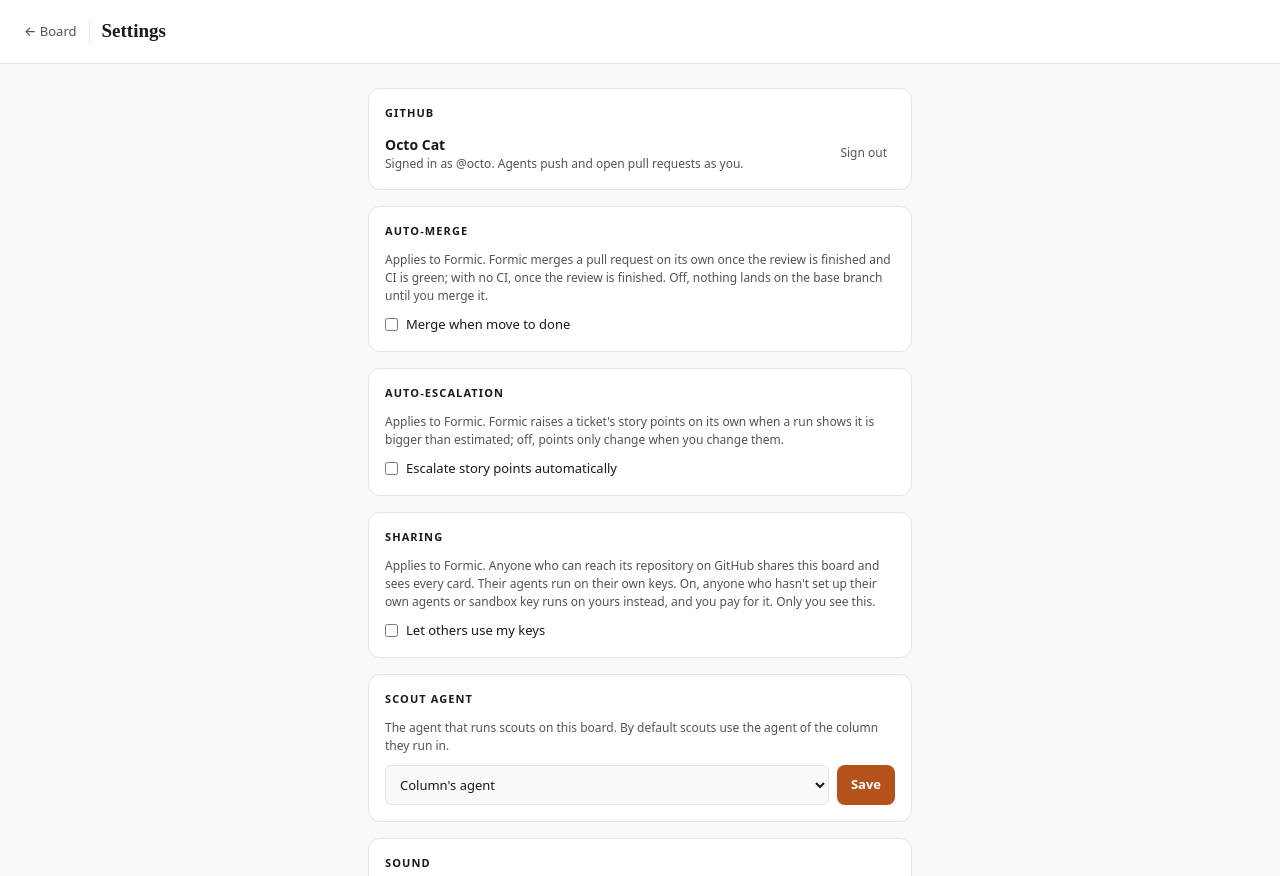
Auto-escalation › stays as it was and says so when the save is refused
The width and height of the screenshot is (1280, 876).
Click the checkbox labelled "Escalate story points automatically" at (392, 469), box [385,462,398,475]
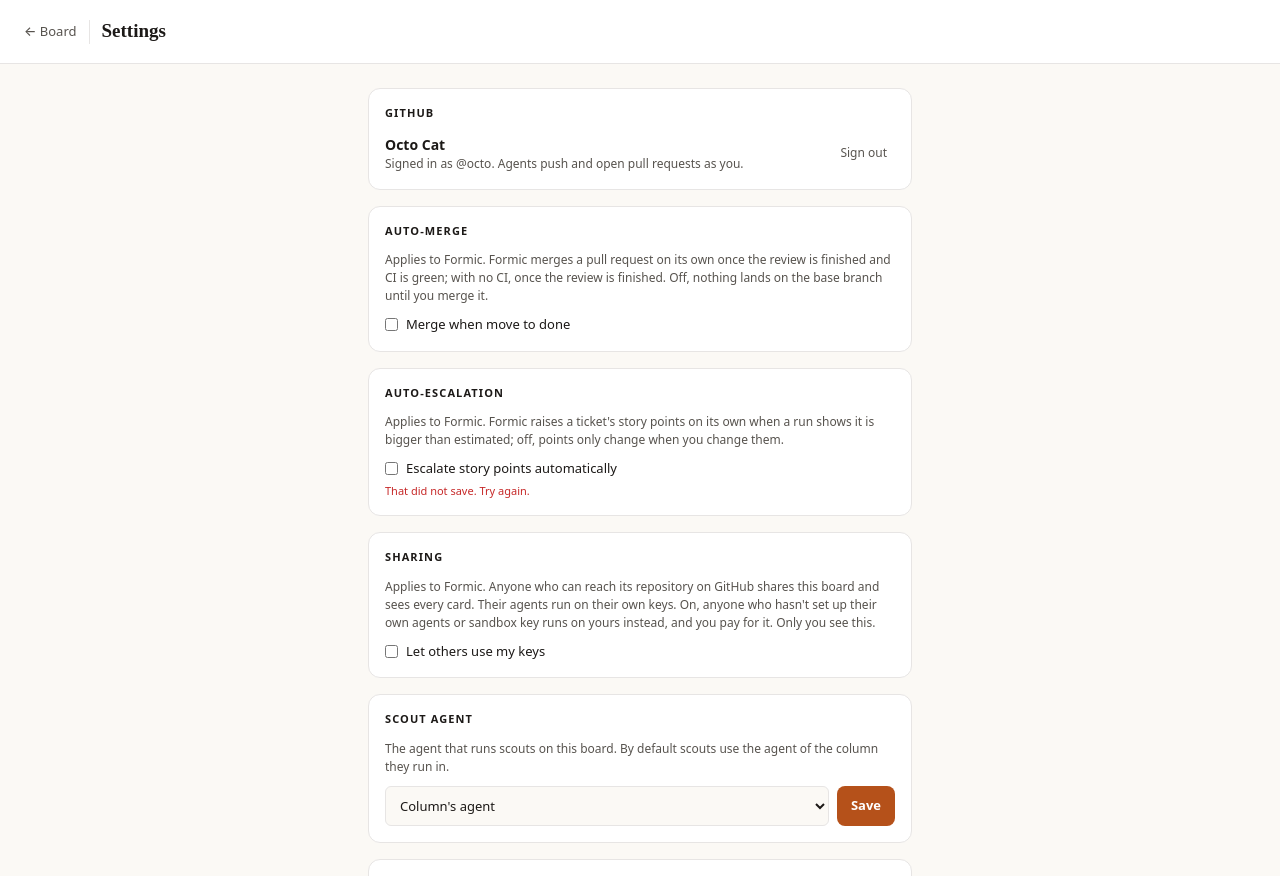
Check: the text "That did not save. Try again." is shown, box [385,482,530,498]
